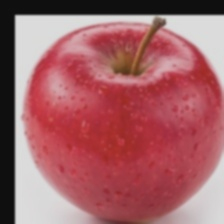apple: (0, 33, 192, 185)
